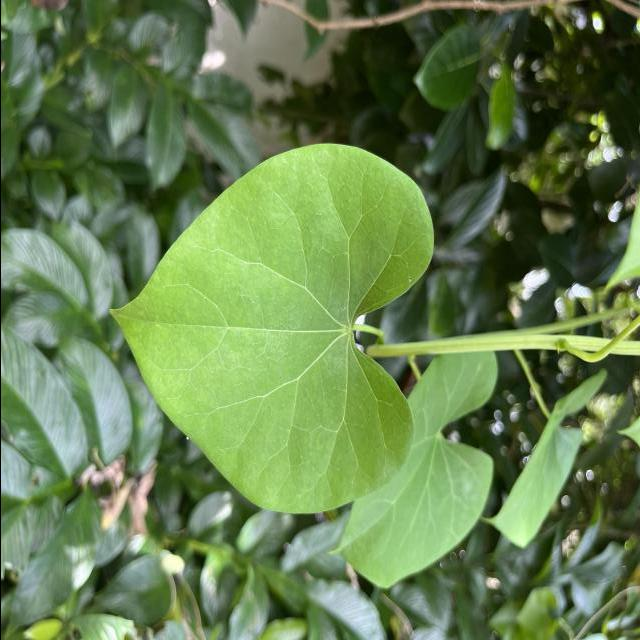Tinospora cordifolia: (102, 138, 437, 516)
